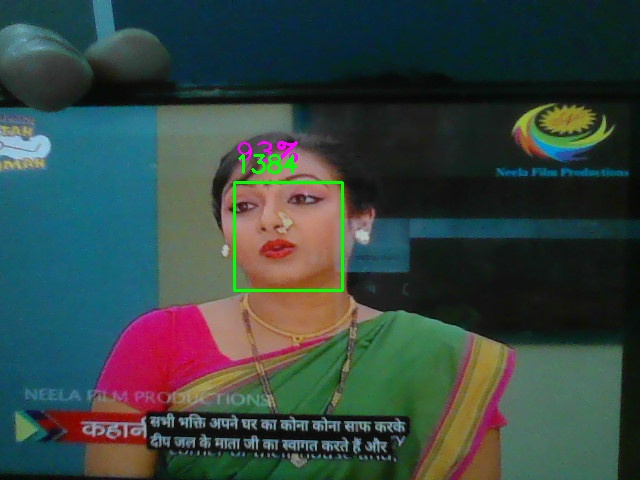fake: (234, 182, 343, 291)
